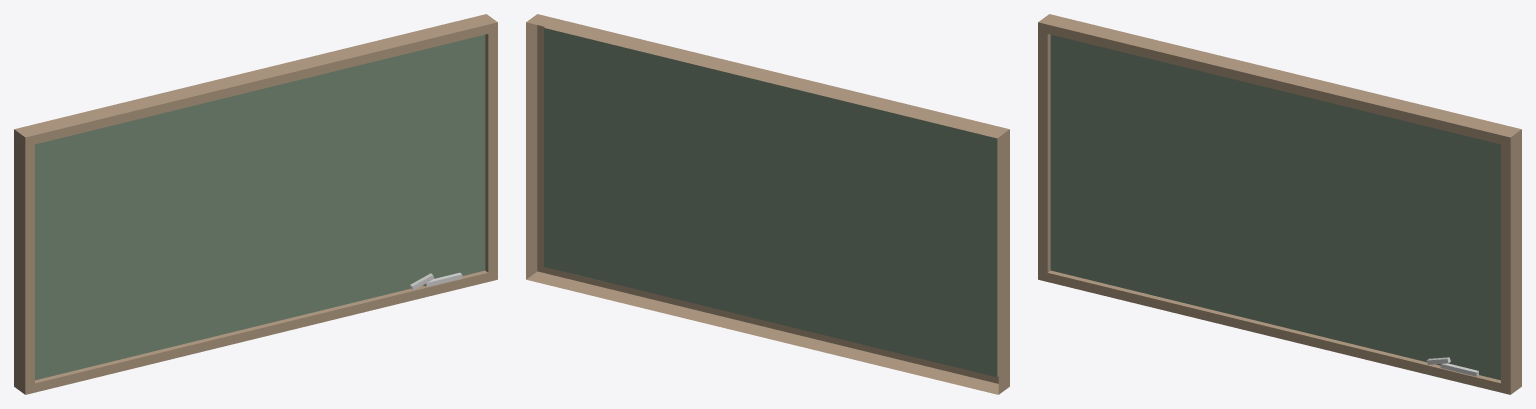
Rendered from classroom_chalkboard.fbx.
3 renders of one model, left to right at view 1: azimuth 30°, elevation 25°; view 2: azimuth 150°, elevation 25°; view 3: azimuth 330°, elevation 25°, orthographic.
Visible parts, largest first — view 1: pCube13; view 2: pCube13; view 3: pCube13.
Boxes of the visible parts, <box> form: pCube13: <box>14,14,497,394</box>; pCube13: <box>526,14,1009,394</box>; pCube13: <box>1038,14,1521,394</box>.
Bounding box in the file's own units: 5.76 × 3 × 0.2396.
